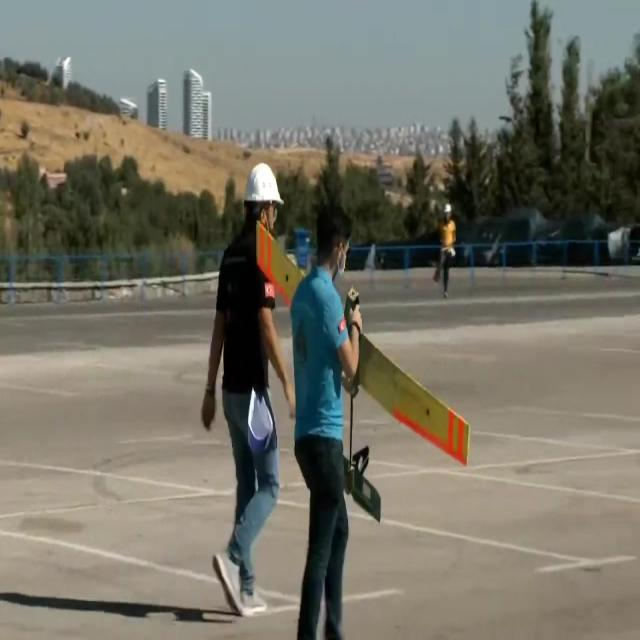iha: (256, 217, 472, 528)
